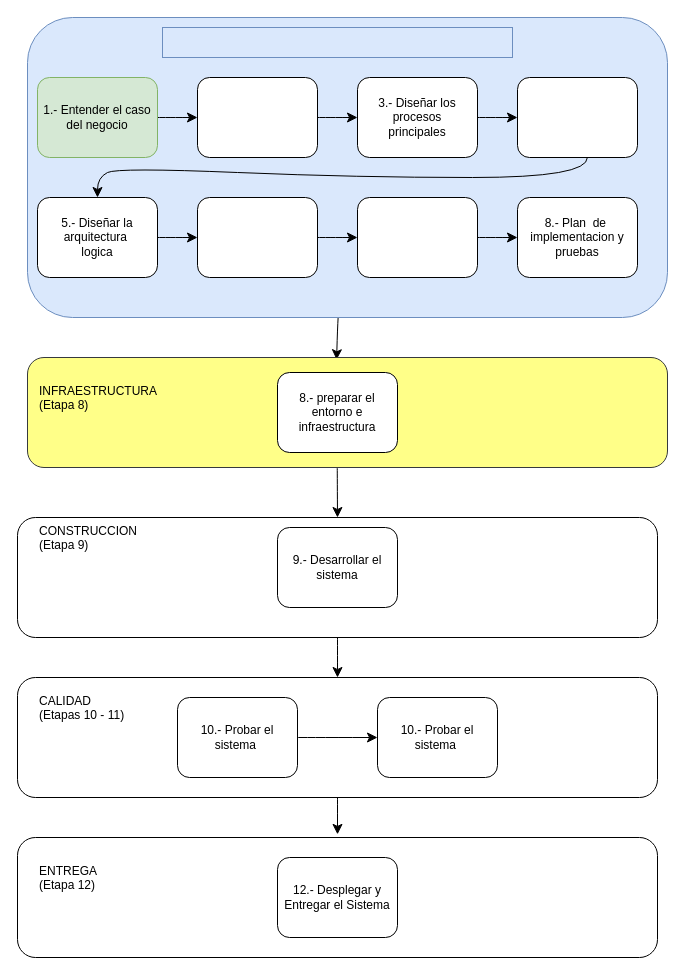
Image size: 685x975. Some labels were removed from this diagram. The centre of each missing label's shape, as x and y in pixels:
"2.- Definir requerimientos y alcanze" belongs at (x=257, y=117).
"4.- Diseñar el modelo de datos" belongs at (x=577, y=117).
"6.- Diseñar la experiencia de Usuario" belongs at (x=257, y=237).
"7.- Diseñar reportes y salidas" belongs at (x=417, y=237).
"DESCUBRIMIENTO Y DISEÑO (Etapa 1 - 8 , sin contar la 9)" belongs at (x=337, y=42).
